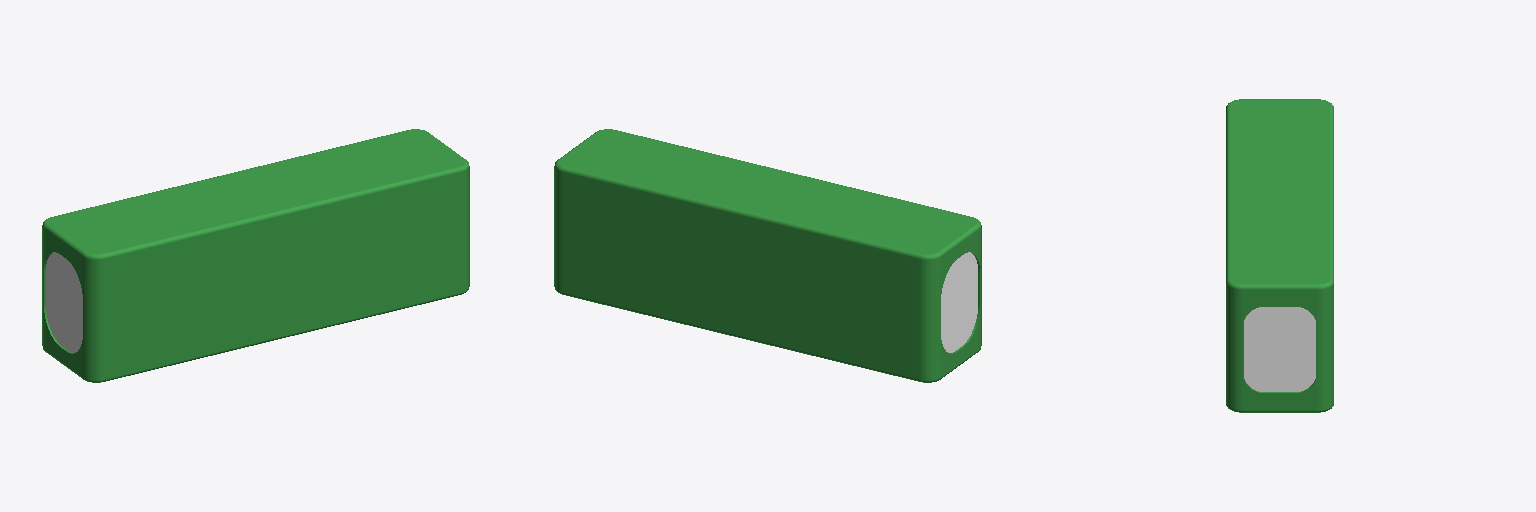
Rendered from battery_link.obj.
3 views of the same model, side by side, from view 1: azimuth 30°, elevation 25°; view 2: azimuth 150°, elevation 25°; view 3: azimuth 270°, elevation 25° (orthographic).
Parts seen in each view (by area): view 1: mesh0, mesh6, mesh30, mesh31, mesh2, mesh1, mesh16, mesh28, mesh25; view 2: mesh11, mesh6, mesh30, mesh22, mesh9, mesh12, mesh17, mesh28, mesh25; view 3: mesh6, mesh37, mesh35, mesh1, mesh12, mesh2, mesh9.
Boxes of the visible parts, x1=… form: mesh0: x1=105, y1=172, x2=460, y2=378; mesh6: x1=47, y1=130, x2=464, y2=253; mesh30: x1=46, y1=252, x2=82, y2=352; mesh31: x1=82, y1=257, x2=104, y2=379; mesh2: x1=103, y1=167, x2=460, y2=258; mesh1: x1=461, y1=166, x2=469, y2=291; mesh16: x1=104, y1=293, x2=460, y2=381; mesh28: x1=45, y1=230, x2=81, y2=287; mesh25: x1=45, y1=319, x2=81, y2=376; mesh11: x1=563, y1=172, x2=918, y2=378; mesh6: x1=559, y1=130, x2=976, y2=253; mesh30: x1=941, y1=252, x2=977, y2=352; mesh22: x1=919, y1=257, x2=941, y2=379; mesh9: x1=563, y1=167, x2=920, y2=258; mesh12: x1=554, y1=166, x2=562, y2=291; mesh17: x1=563, y1=293, x2=919, y2=381; mesh28: x1=942, y1=230, x2=978, y2=287; mesh25: x1=942, y1=319, x2=978, y2=376; mesh6: x1=1230, y1=100, x2=1329, y2=283; mesh37: x1=1244, y1=307, x2=1315, y2=391; mesh35: x1=1243, y1=290, x2=1316, y2=409; mesh1: x1=1226, y1=284, x2=1242, y2=409; mesh12: x1=1317, y1=284, x2=1333, y2=409; mesh2: x1=1226, y1=105, x2=1229, y2=280; mesh9: x1=1330, y1=105, x2=1333, y2=280.
Size of the model in its own units: 0.107 by 0.034 by 0.026.